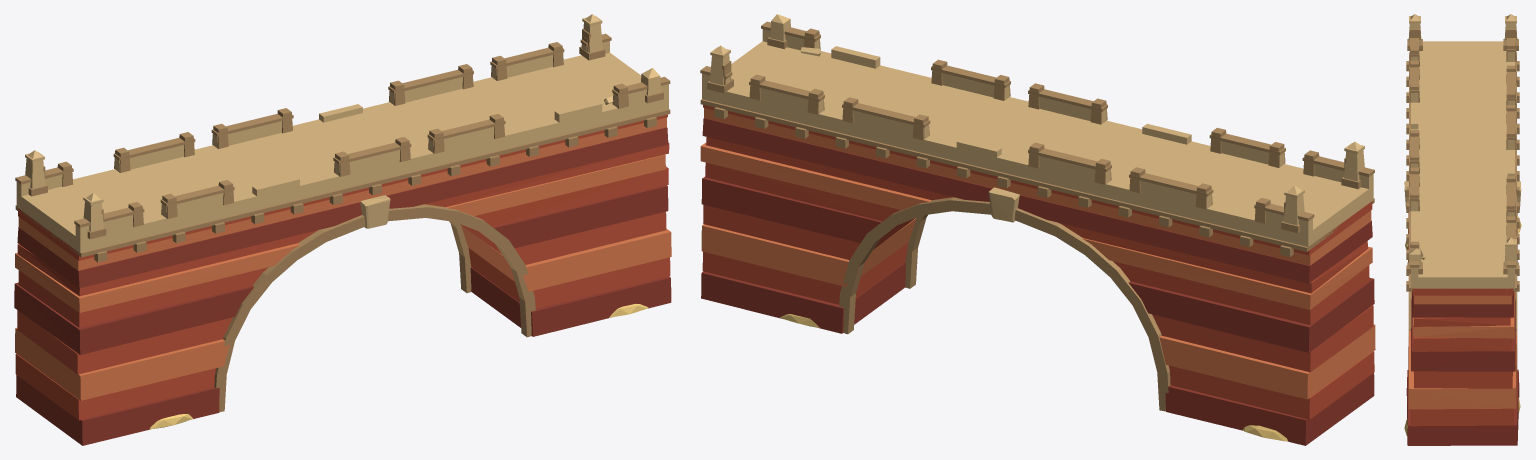
Rendered from Desert_3_StoneBridge.fbx.
3 renders of one model, left to right at view 1: azimuth 30°, elevation 25°; view 2: azimuth 150°, elevation 25°; view 3: azimuth 270°, elevation 25°, orthographic. The views are drawn at different scales.
Parts seen in each view (by area): view 1: Desert_3_StoneBridge__Desert_Sandstone, Desert_3_StoneBridge__Desert_CanyonDark, Desert_3_StoneBridge__Desert_CanyonRed, Desert_3_StoneBridge__Desert_CanyonLight, Desert_3_StoneBridge__Desert_SandstoneDark, Desert_3_StoneBridge__Desert_Sand; view 2: Desert_3_StoneBridge__Desert_Sandstone, Desert_3_StoneBridge__Desert_CanyonDark, Desert_3_StoneBridge__Desert_CanyonRed, Desert_3_StoneBridge__Desert_CanyonLight, Desert_3_StoneBridge__Desert_SandstoneDark, Desert_3_StoneBridge__Desert_Sand; view 3: Desert_3_StoneBridge__Desert_Sandstone, Desert_3_StoneBridge__Desert_CanyonRed, Desert_3_StoneBridge__Desert_CanyonDark, Desert_3_StoneBridge__Desert_SandstoneDark, Desert_3_StoneBridge__Desert_CanyonLight, Desert_3_StoneBridge__Desert_Sand.
Boxes of the visible parts, x1,y1,x2,y2 form: Desert_3_StoneBridge__Desert_Sandstone: (16, 14, 668, 252); Desert_3_StoneBridge__Desert_CanyonDark: (14, 127, 671, 445); Desert_3_StoneBridge__Desert_CanyonRed: (15, 114, 670, 420); Desert_3_StoneBridge__Desert_CanyonLight: (15, 117, 671, 400); Desert_3_StoneBridge__Desert_SandstoneDark: (15, 29, 670, 412); Desert_3_StoneBridge__Desert_Sand: (150, 304, 648, 429); Desert_3_StoneBridge__Desert_Sandstone: (702, 14, 1373, 246); Desert_3_StoneBridge__Desert_CanyonDark: (701, 118, 1374, 445); Desert_3_StoneBridge__Desert_CanyonRed: (702, 105, 1374, 419); Desert_3_StoneBridge__Desert_CanyonLight: (700, 108, 1375, 399); Desert_3_StoneBridge__Desert_SandstoneDark: (700, 21, 1374, 411); Desert_3_StoneBridge__Desert_Sand: (779, 314, 1287, 441); Desert_3_StoneBridge__Desert_Sandstone: (1404, 14, 1521, 288); Desert_3_StoneBridge__Desert_CanyonRed: (1411, 288, 1513, 426); Desert_3_StoneBridge__Desert_CanyonDark: (1406, 213, 1519, 445); Desert_3_StoneBridge__Desert_SandstoneDark: (1406, 29, 1519, 371); Desert_3_StoneBridge__Desert_CanyonLight: (1408, 213, 1517, 409); Desert_3_StoneBridge__Desert_Sand: (1404, 215, 1521, 435).
Bounding box in the file's own units: 151 × 60.08 × 31.5.
